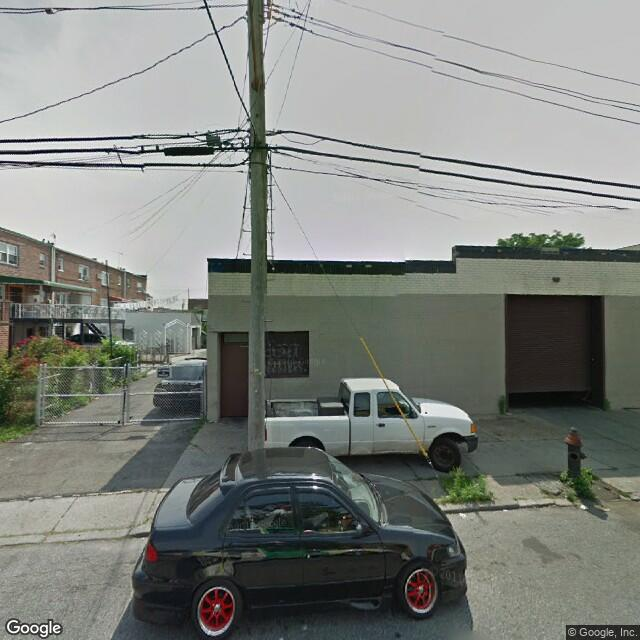litter: (592, 503, 611, 515), (457, 510, 470, 523), (579, 502, 589, 513), (504, 409, 514, 417), (23, 440, 33, 448), (502, 507, 512, 514), (302, 624, 313, 630)
